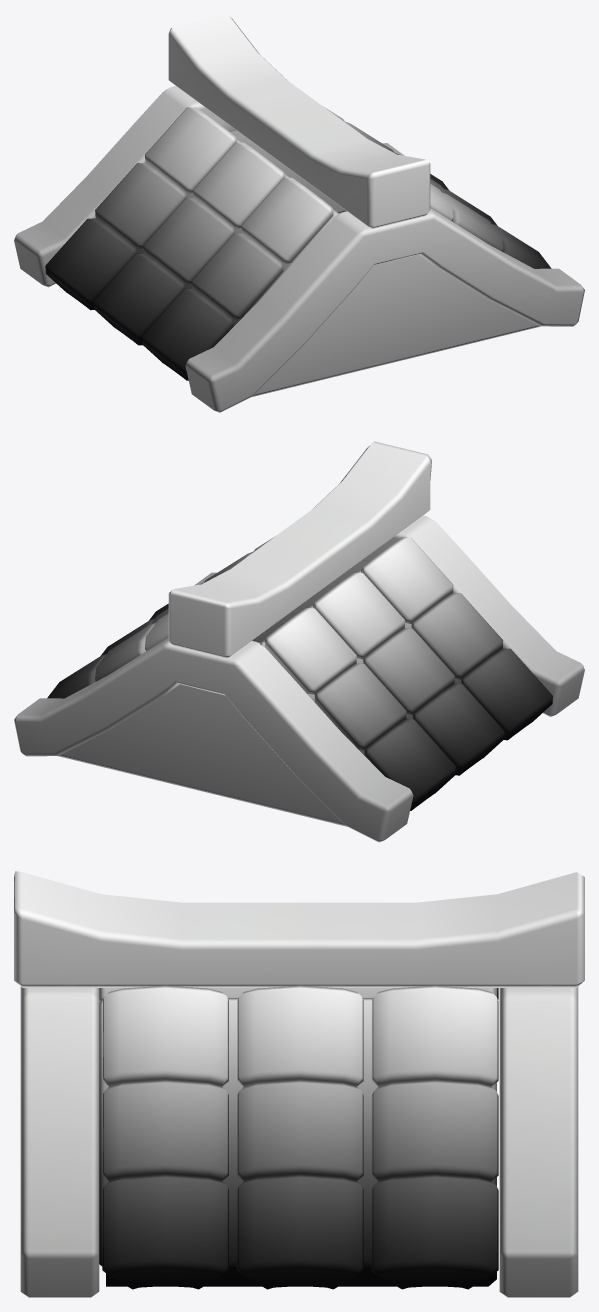
The model's file is SM_Stone_Roof_04.fbx.
The picture shows the model from 3 angles, top to bottom: view 1: azimuth 30°, elevation 25°; view 2: azimuth 150°, elevation 25°; view 3: azimuth 270°, elevation 25°; orthographic projection. The views are drawn at different scales.
Visible parts, largest first — view 1: SM_Stone_Roof_04; view 2: SM_Stone_Roof_04; view 3: SM_Stone_Roof_04.
Part boxes in pixels (x1=…): SM_Stone_Roof_04: x1=14, y1=14, x2=584, y2=412; SM_Stone_Roof_04: x1=14, y1=441, x2=584, y2=842; SM_Stone_Roof_04: x1=14, y1=871, x2=584, y2=1297.
Size of the model in its own units: 1.11 by 0.5742 by 1.02.
